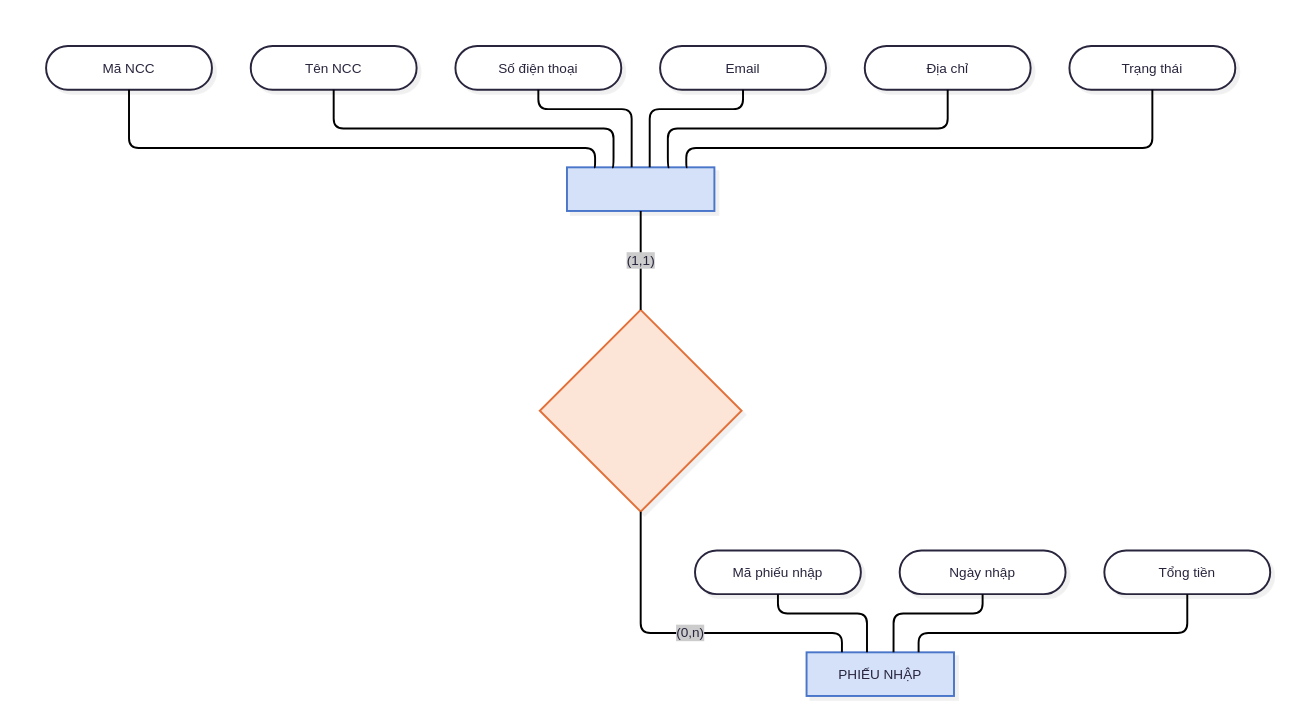
This 1291x717 diagram has some shape labels left out. The centre of each missing label's shape, as x and y in pixels:
"Cung cấp" goes at pixel 642 412.
"NHÀ CUNG CẤP" goes at pixel 642 190.
